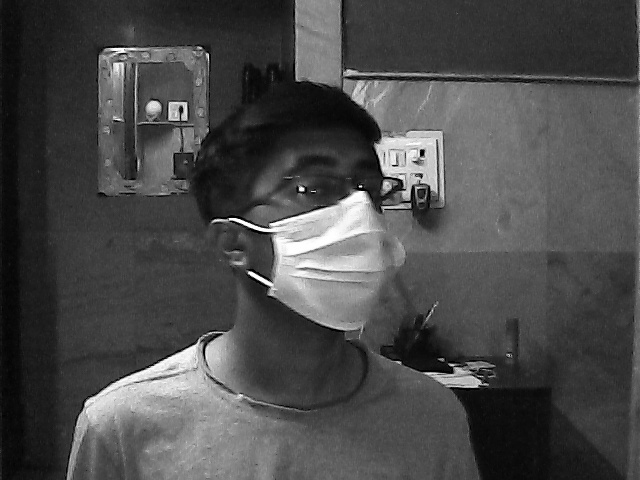mask: (231, 147, 404, 348)
